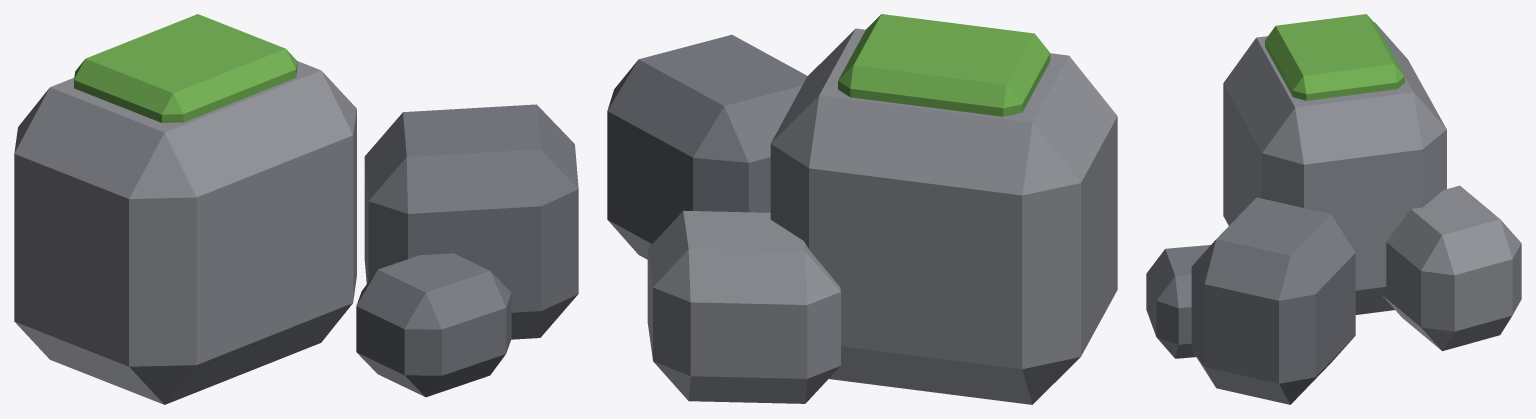
File: env_r1_rock_cluster.glb
The picture shows the model from 3 angles, left to right: view 1: azimuth 30°, elevation 25°; view 2: azimuth 150°, elevation 25°; view 3: azimuth 270°, elevation 25°; orthographic projection. The views are drawn at different scales.
Parts seen in each view (by area): view 1: env_r1_rock_cluster; view 2: env_r1_rock_cluster; view 3: env_r1_rock_cluster.
Part boxes in pixels (left/top/right/bottom): env_r1_rock_cluster: left=14, top=14, right=578, bottom=404; env_r1_rock_cluster: left=607, top=14, right=1117, bottom=404; env_r1_rock_cluster: left=1146, top=14, right=1521, bottom=404.
Size of the model in its own units: 3.2 by 1.8 by 2.6.
Materials: 1 (1 with a texture image).
